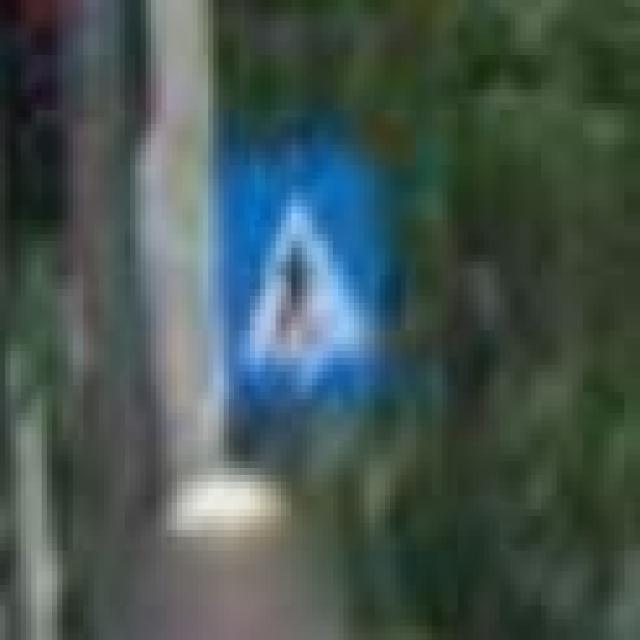traffic sign: (218, 152, 380, 400)
